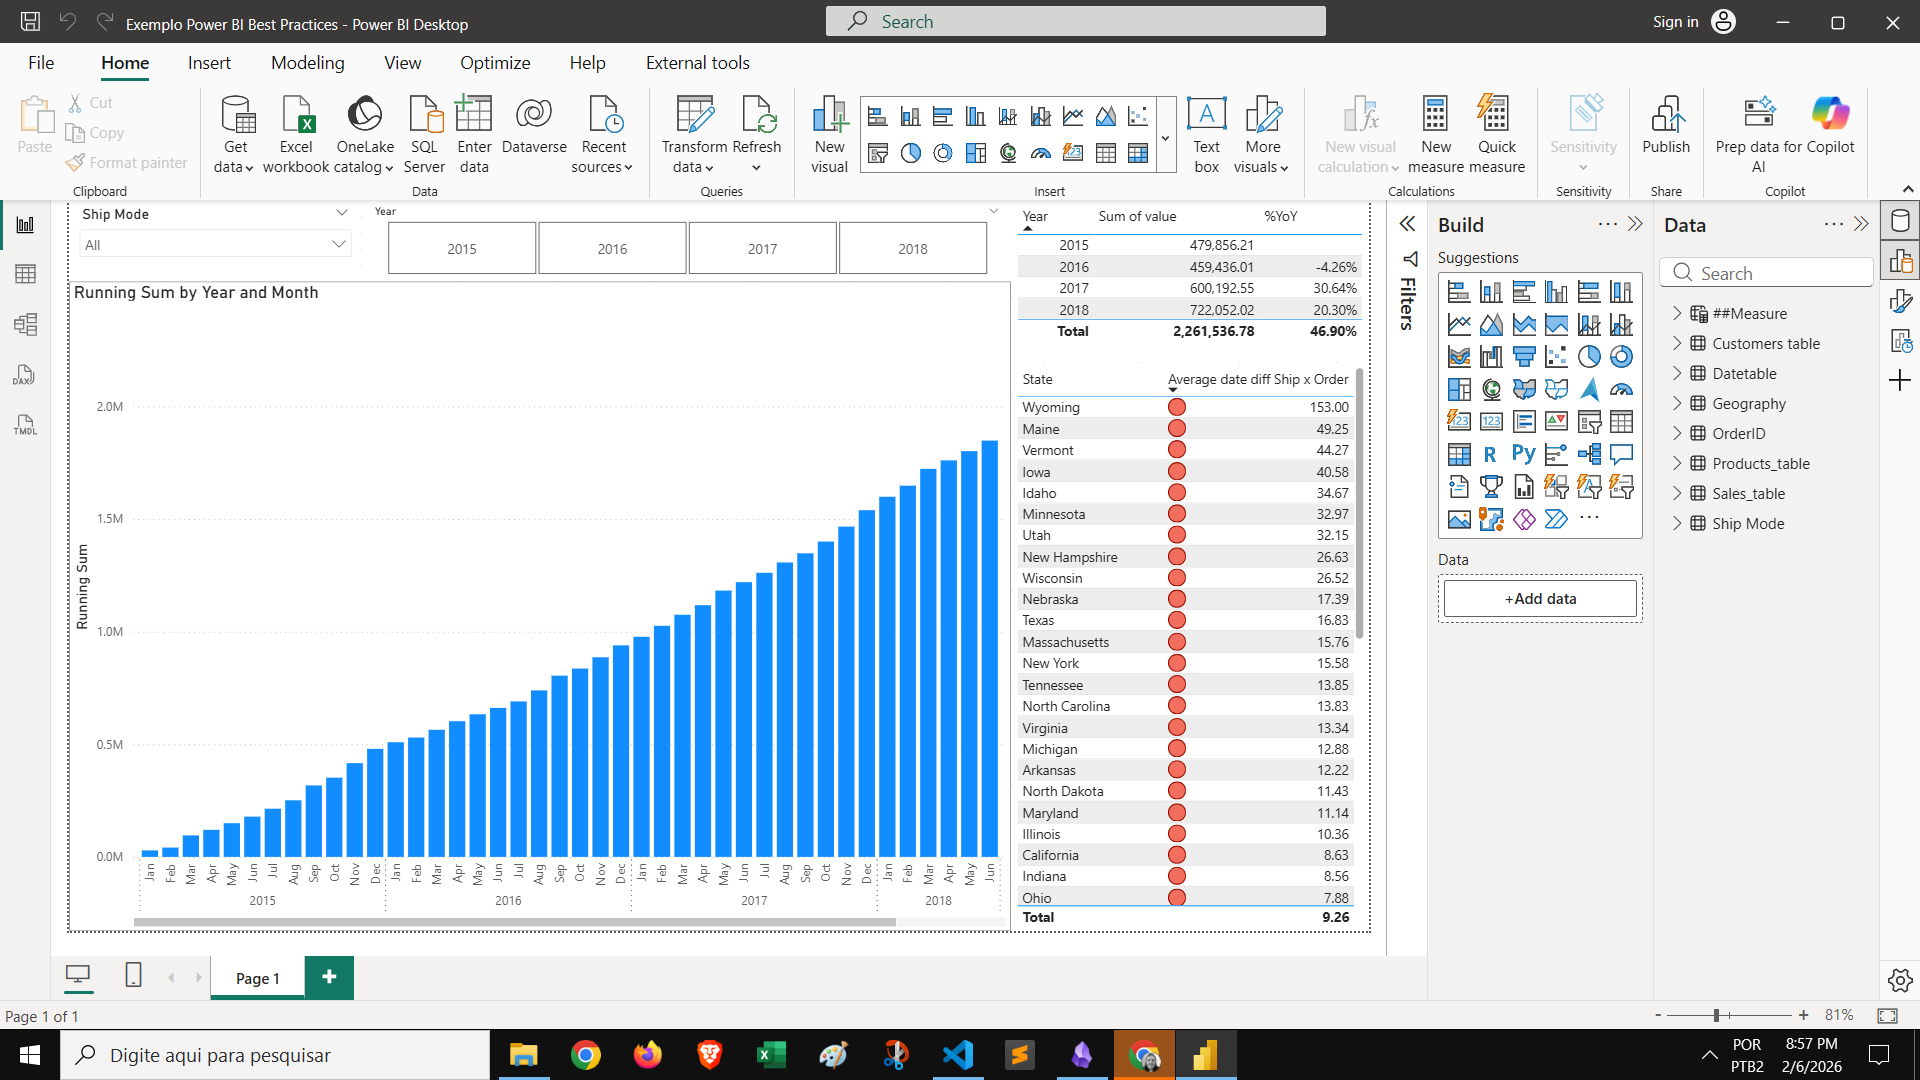

The dashboard page shown, as its layout file describes it:
{"tool":"powerbi","page":{"name":"Page 1","canvas":[1280,720],"ordinal":0},"visuals":[{"type":"tableEx","fields":{"Values":["Geography.State","Sales_table.Average date diff Ship x Order"]},"box":[928,160,352,560],"z":0},{"type":"tableEx","fields":{"Values":["Datetable.Year","Measure.Sum of value","Measure.%YoY"]},"box":[928,0,352,160],"z":1000},{"type":"clusteredColumnChart","title":"Running Sum by Year and Month","fields":{"Category":["Datetable.Year","Datetable.Month Name"],"Y":["Measure.Value Acc"]},"box":[0,80,928,640],"z":2000},{"type":"slicer","fields":{"Values":["Datetable.Year"]},"box":[288,0,640,80],"z":3000},{"type":"slicer","fields":{"Values":["Ship Mode.Ship Mode"]},"box":[0,0,288,80],"z":4000}]}

Visuals, with their boxes on the page's 1280x720 design canvas (x1, y1, x2, y2). These are canvas units, not pixel positions in the 1920x1080 screenshot, which may show the page scaled, cropped or inside an application window:
tableEx - Geography.State x Sales_table.Average date diff Ship x Order: bbox=(928, 160, 1280, 720)
tableEx - Datetable.Year x Measure.Sum of value: bbox=(928, 0, 1280, 160)
"Running Sum by Year and Month" clusteredColumnChart: bbox=(0, 80, 928, 720)
slicer - Datetable.Year: bbox=(288, 0, 928, 80)
slicer - Ship Mode.Ship Mode: bbox=(0, 0, 288, 80)
